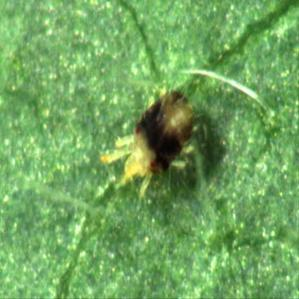spider mite: (86, 73, 217, 212)
